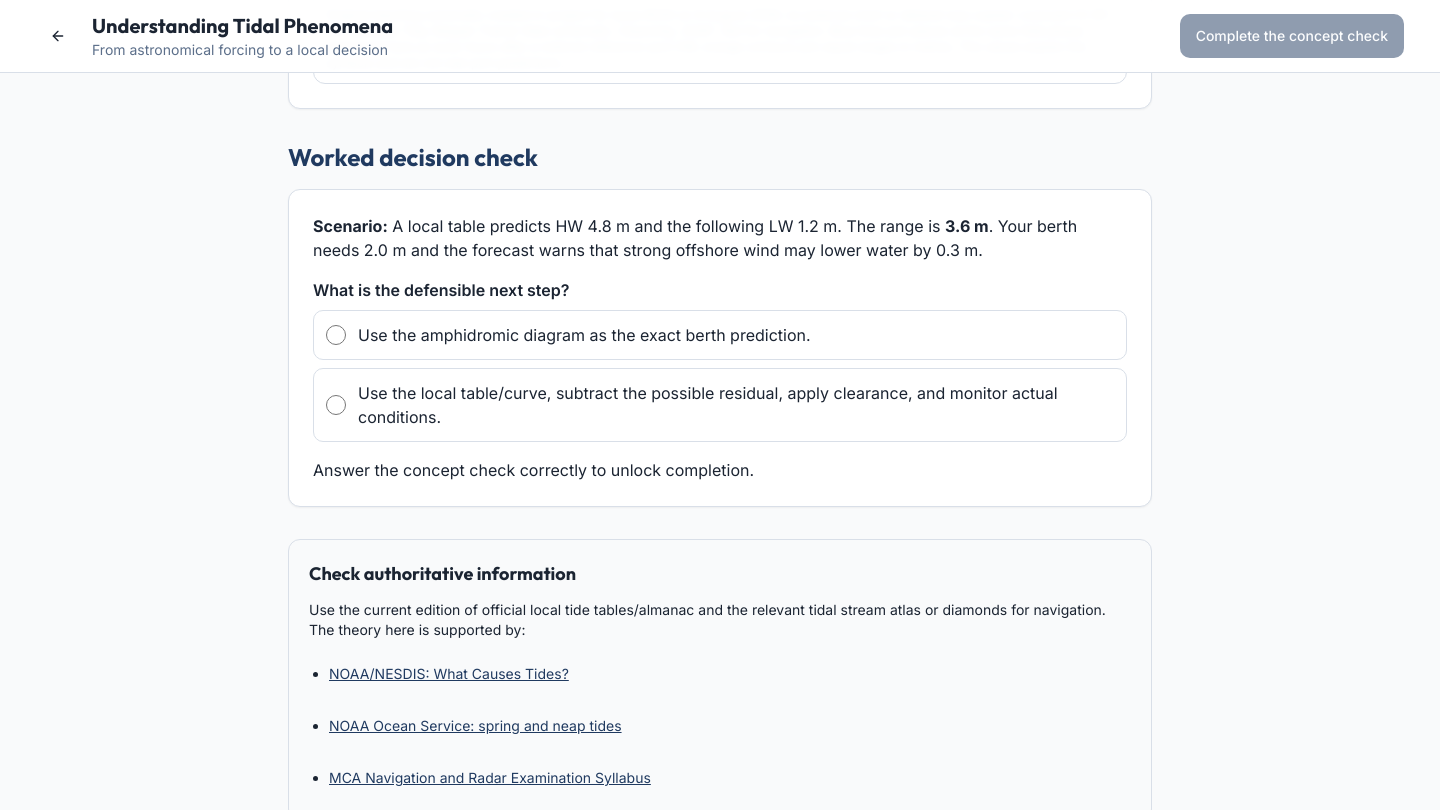
Scenario: Tides durable evidence completion › requires the deliberate safe-decision check and confirms a server save
The width and height of the screenshot is (1440, 810).
(page scrolled)
Expected: the button "Complete the concept check" is disabled, [1180,14,1404,58]
Step 1. Click the radio button labelled "Use the local table/curve" → (336, 405), box [326,395,346,415]
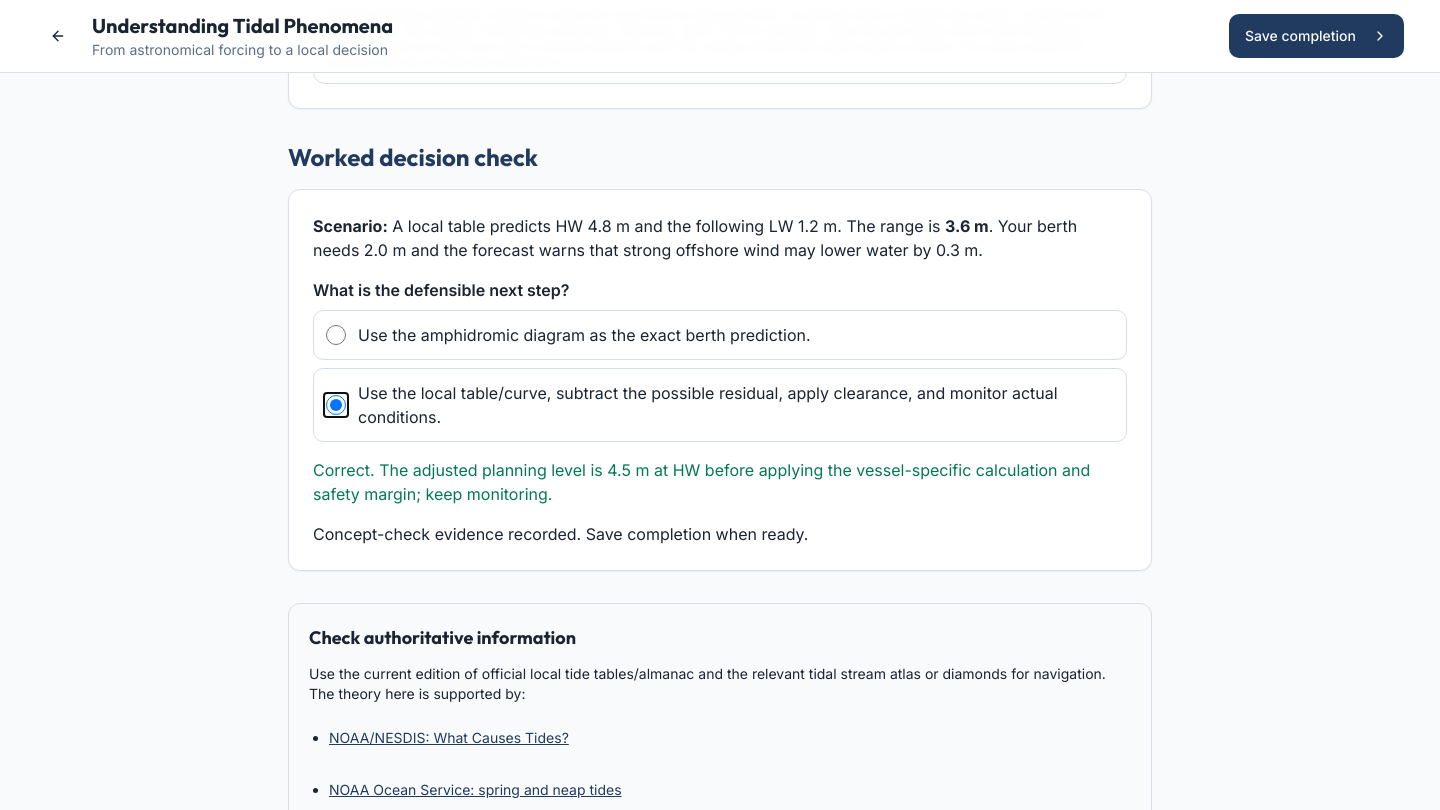
Step 2. Click the button "Save completion" → (1316, 36), box [1229,14,1404,58]
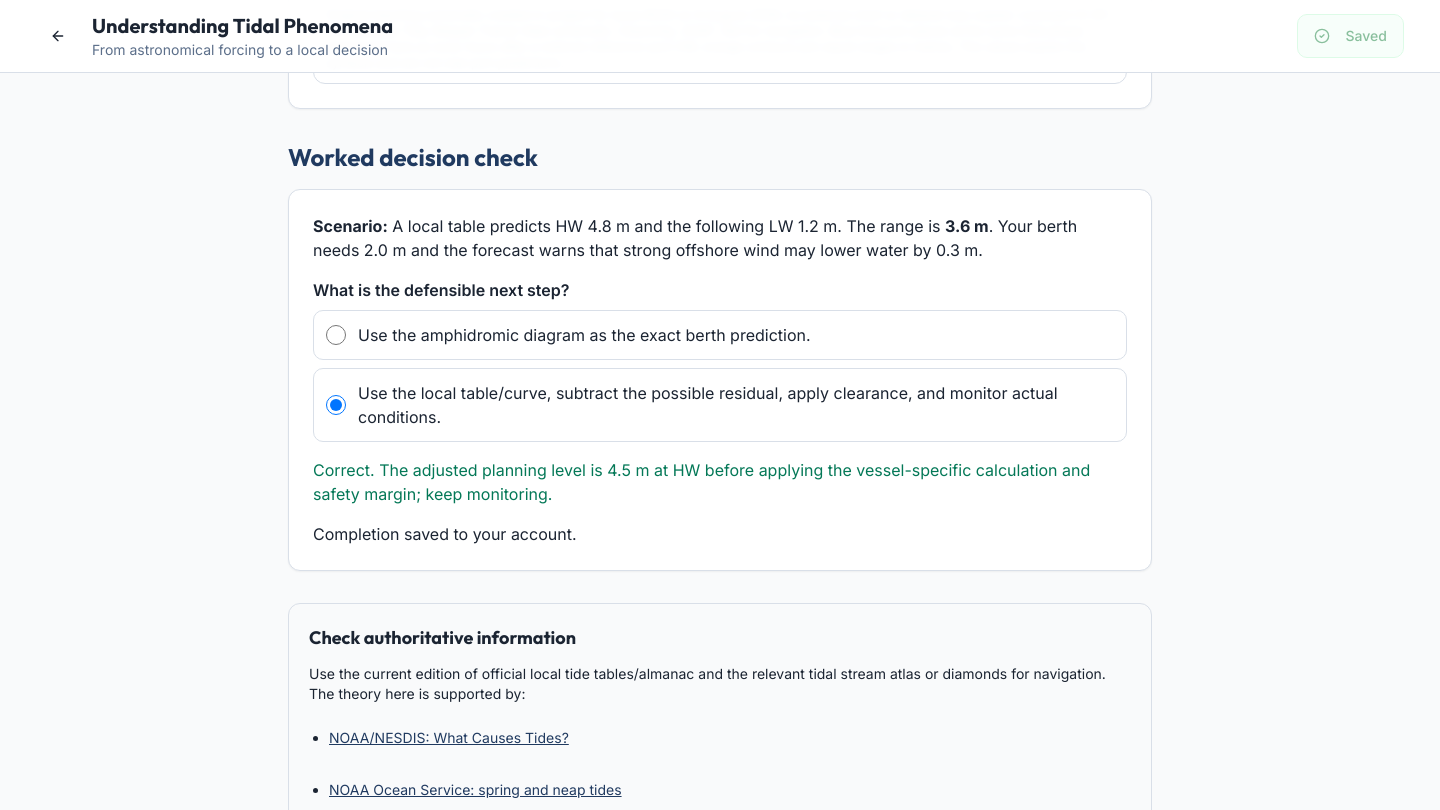
Now the text "Completion saved to your account." is shown, box [313,524,576,544]
